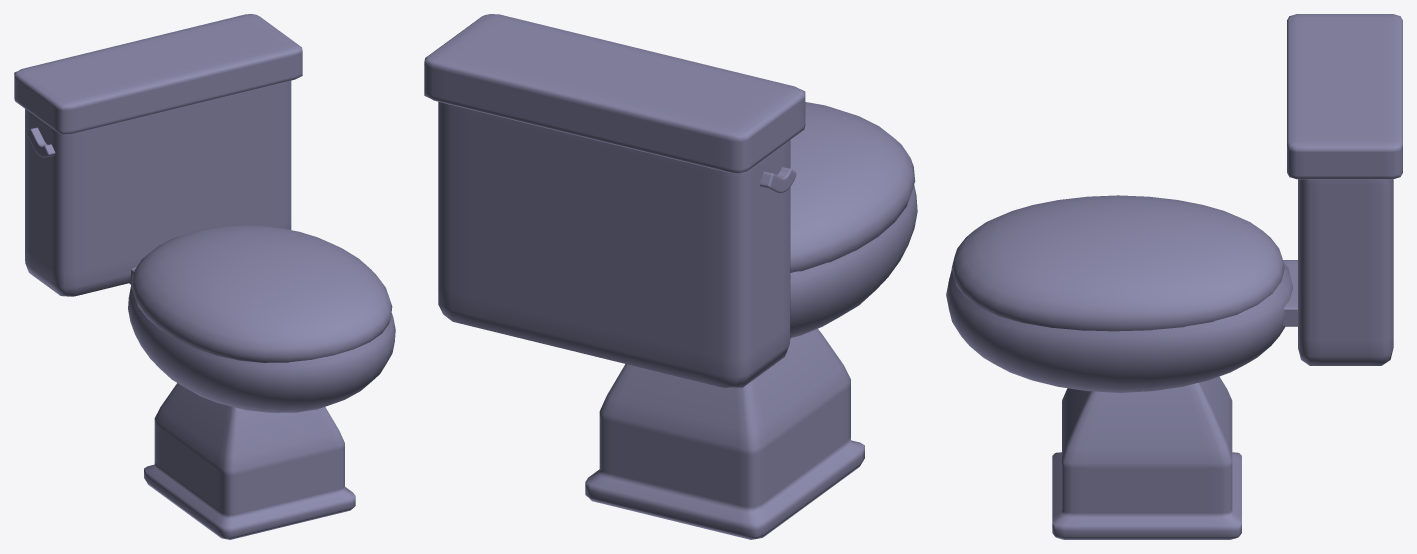
File: Toilet.fbx
3 renders of one model, left to right at view 1: azimuth 30°, elevation 25°; view 2: azimuth 150°, elevation 25°; view 3: azimuth 270°, elevation 25°, orthographic. The views are drawn at different scales.
Parts seen in each view (by area): view 1: pCube4, pCube6, pCube1, pCube5, pCube2, pCube7; view 2: pCube4, pCube1, pCube5, pCube6, pCube2, pCube7; view 3: pCube6, pCube1, pCube2, pCube5, pCube4, pCube3.
Boxes of the visible parts, left/top/right/bottom form: pCube4: left=25, top=80, right=291, bottom=296; pCube6: left=131, top=225, right=392, bottom=362; pCube1: left=144, top=383, right=355, bottom=539; pCube5: left=14, top=14, right=302, bottom=134; pCube2: left=128, top=284, right=395, bottom=412; pCube7: left=27, top=127, right=55, bottom=157; pCube4: left=438, top=102, right=790, bottom=388; pCube1: left=585, top=328, right=864, bottom=539; pCube5: left=424, top=14, right=805, bottom=173; pCube6: left=790, top=102, right=915, bottom=272; pCube2: left=790, top=185, right=917, bottom=337; pCube7: left=760, top=167, right=796, bottom=193; pCube6: left=951, top=195, right=1284, bottom=331; pCube1: left=1052, top=376, right=1241, bottom=539; pCube2: left=946, top=262, right=1292, bottom=392; pCube5: left=1287, top=14, right=1402, bottom=179; pCube4: left=1298, top=179, right=1393, bottom=365; pCube3: left=1282, top=260, right=1297, bottom=326.
Size of the model in its own units: 1.93 by 2.8 by 2.74.
